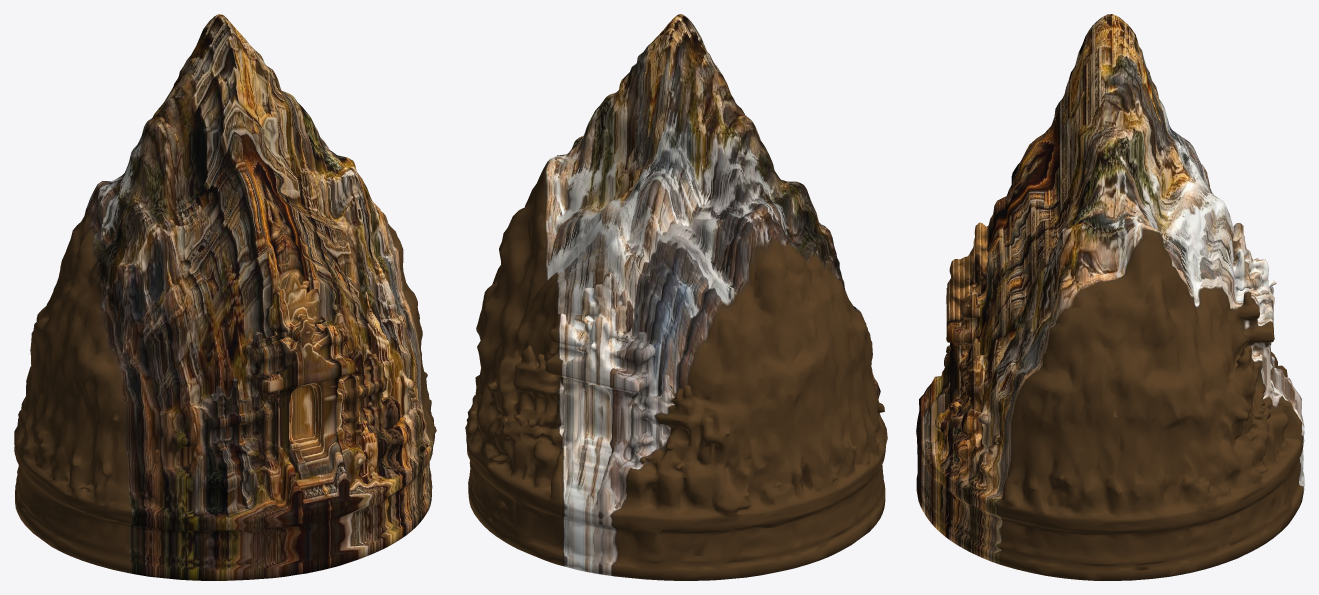
The model's file is himalaya_peak.glb.
3 views of the same model, side by side, from view 1: azimuth 30°, elevation 25°; view 2: azimuth 150°, elevation 25°; view 3: azimuth 270°, elevation 25° (orthographic).
Visible parts, largest first — view 1: geometry_0; view 2: geometry_0; view 3: geometry_0.
Boxes of the visible parts, box(x1,y1,x2,y2) form: geometry_0: box(14, 14, 436, 580); geometry_0: box(465, 14, 887, 580); geometry_0: box(916, 14, 1304, 580).
Bounding box in the file's own units: 1.57 × 1.97 × 1.45.
Materials: 1 (1 with a texture image).
